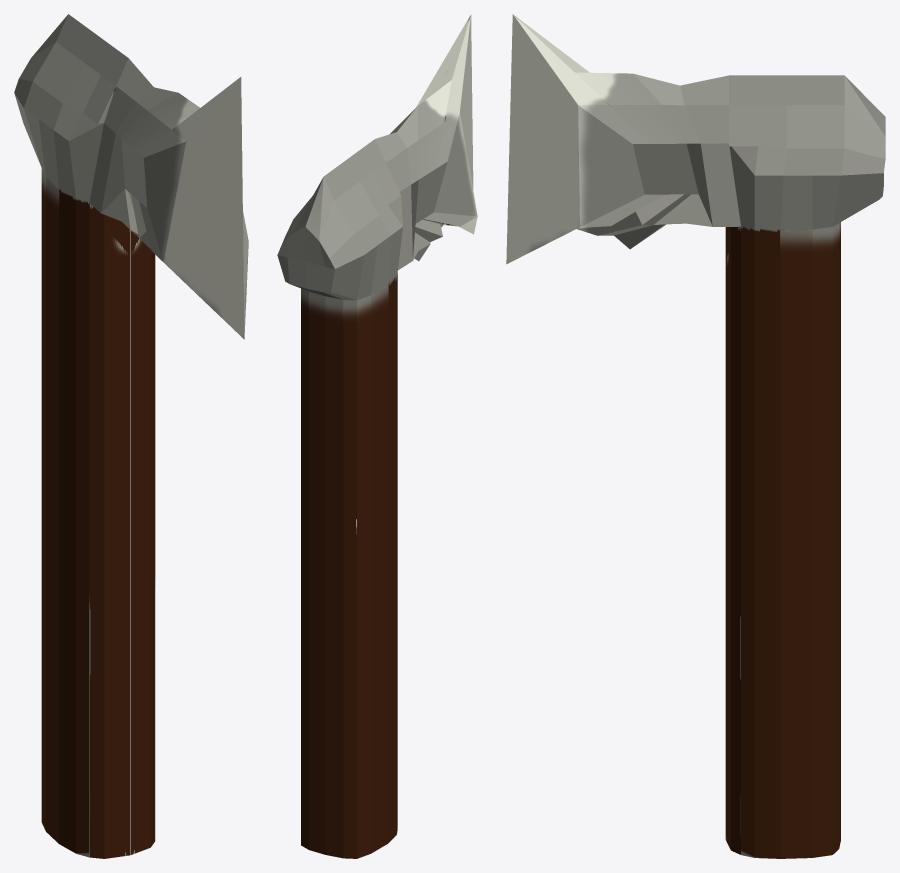
File: axe.fbx
3 renders of one model, left to right at view 1: azimuth 30°, elevation 25°; view 2: azimuth 150°, elevation 25°; view 3: azimuth 270°, elevation 25°, orthographic. The views are drawn at different scales.
Parts seen in each view (by area): view 1: Cube.001; view 2: Cube.001; view 3: Cube.001.
Part boxes in pixels (<box>): Cube.001: <box>14,14,248,858</box>; Cube.001: <box>277,15,477,858</box>; Cube.001: <box>506,14,885,858</box>.
Size of the model in its own units: 0.0889 by 0.7885 by 0.3282.
